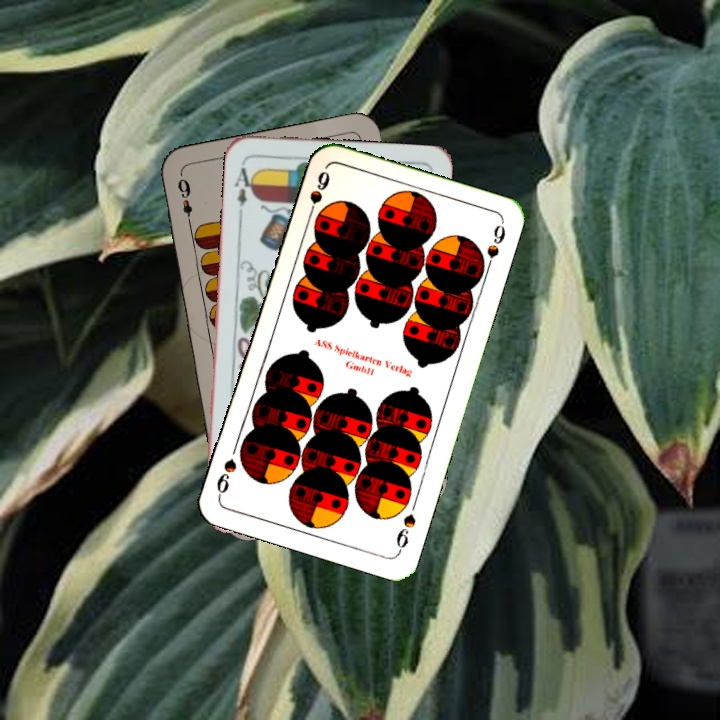E9: (173, 171, 195, 230)
EA: (230, 158, 258, 218)
S9: (303, 167, 333, 223), (392, 509, 418, 556)
